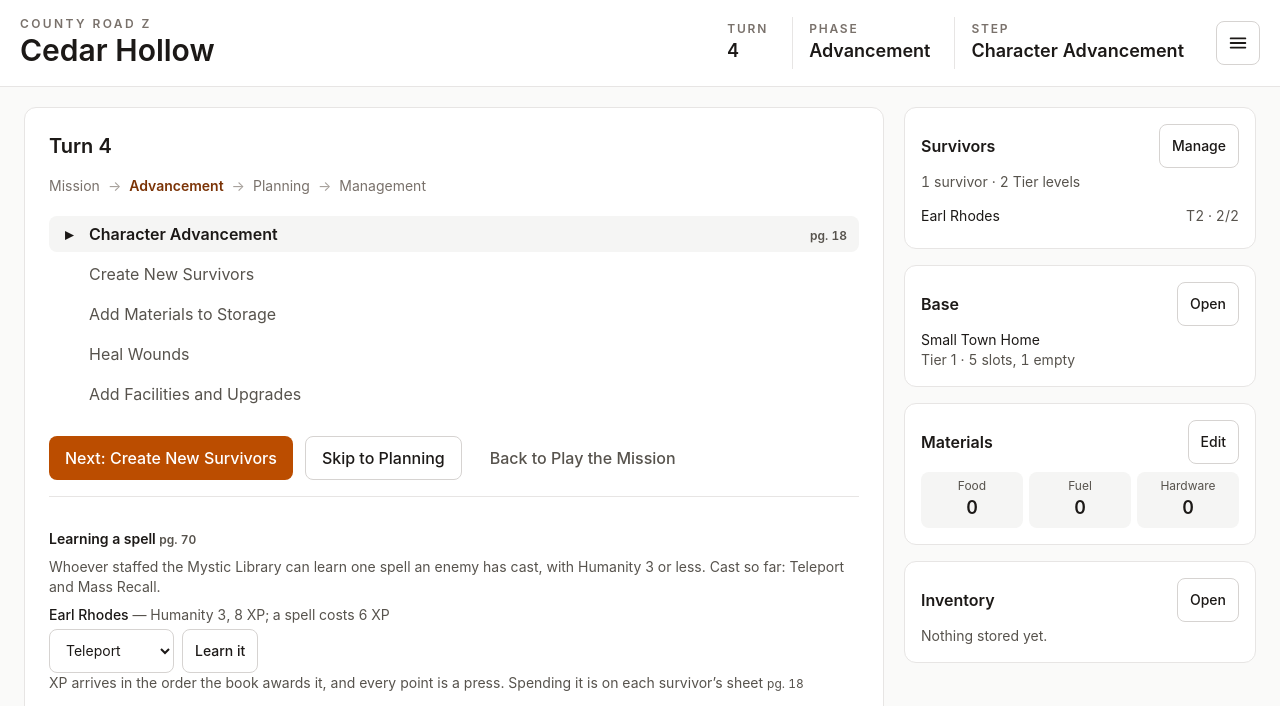
Test: learning a spell at the Mystic Library (pg. 70; R113; Z7-9) › offers whoever staffed it the spells cast, and learns the one picked
Expected: the text "Cast so far: Teleport and Mass Recall." is shown, x1=49 y1=558 x2=844 y2=594
Expected: the text "— Humanity 3, 8 XP; a spell costs 6 XP" is shown, x1=133 y1=606 x2=390 y2=622
Select "Mass Recall" in the dropdown named "Spell for Earl Rhodes to learn". click: (112, 650)
box: x1=49 y1=628 x2=174 y2=672
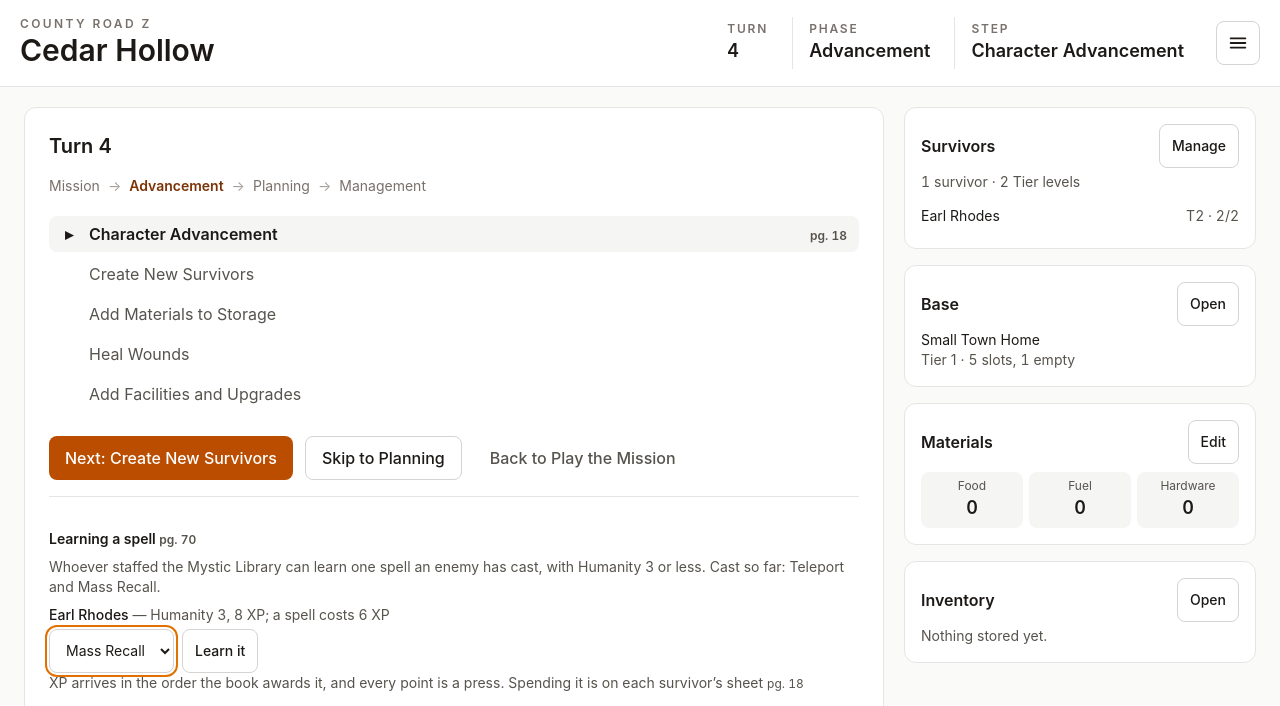
Click the button "Learn it". click: (220, 650)
box: x1=182 y1=628 x2=258 y2=672
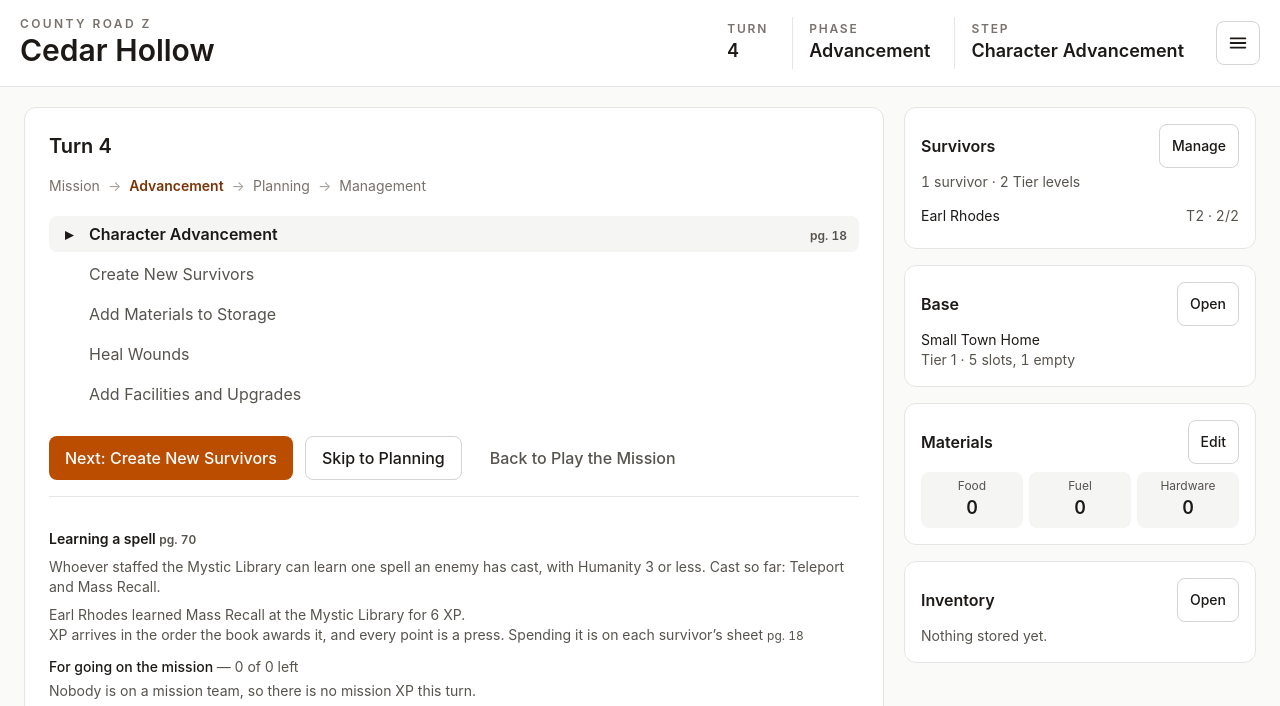
Now the list item "Earl Rhodes learned Mass Recall at the Mystic Library for 6 XP." is shown, box x1=49 y1=606 x2=465 y2=622
Now the button "Learn it" is gone
